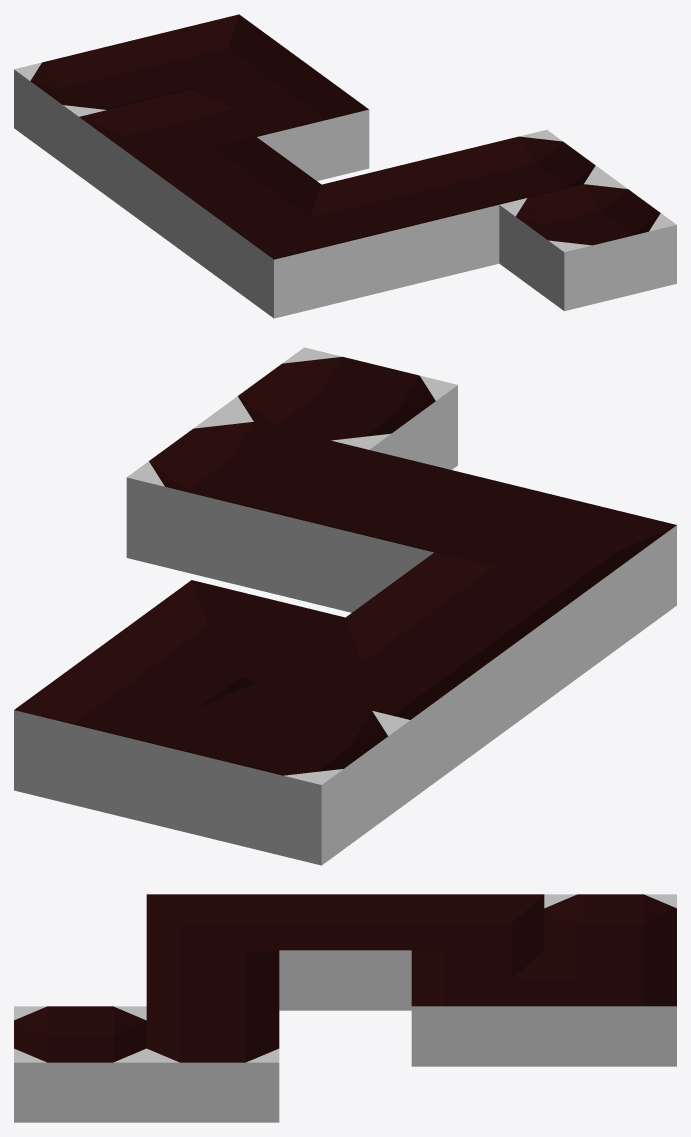
File: 24f_path.obj
3 renders of one model, top to bottom at view 1: azimuth 30°, elevation 25°; view 2: azimuth 150°, elevation 25°; view 3: azimuth 270°, elevation 25°, orthographic. The views are drawn at different scales.
Parts seen in each view (by area): view 1: foil.hole.3.0_Cube.199, foil.corner.1.1_corner.985, foil.through.2.1_through.200, foil.corner.2.3_corner.987, foil.corner.1.3_corner.986, foil.through.1.2_through.199, foil.ending.1.4_ending.395, foil.corner.2.4_corner.988, foil.ending.3.1_ending.396; view 2: foil.ending.1.4_ending.395, foil.ending.3.1_ending.396, foil.corner.2.4_corner.988, foil.through.2.1_through.200, foil.corner.1.1_corner.985, foil.through.1.2_through.199, foil.hole.3.0_Cube.199, foil.corner.2.3_corner.987, foil.corner.1.3_corner.986; view 3: foil.through.1.2_through.199, foil.hole.3.0_Cube.199, foil.corner.2.3_corner.987, foil.ending.3.1_ending.396, foil.corner.2.4_corner.988, foil.corner.1.1_corner.985, foil.corner.1.3_corner.986, foil.ending.1.4_ending.395, foil.through.2.1_through.200.
Part boxes in pixels (x1,y1,x2,y2): foil.hole.3.0_Cube.199: (499, 177, 676, 311); foil.corner.1.1_corner.985: (209, 185, 386, 318); foil.through.2.1_through.200: (322, 157, 499, 290); foil.corner.2.3_corner.987: (192, 62, 369, 180); foil.corner.1.3_corner.986: (79, 89, 256, 222); foil.through.1.2_through.199: (144, 137, 321, 270); foil.ending.1.4_ending.395: (14, 42, 189, 175); foil.corner.2.4_corner.988: (127, 14, 303, 97); foil.ending.3.1_ending.396: (434, 129, 611, 207); foil.ending.1.4_ending.395: (168, 682, 410, 865); foil.ending.3.1_ending.396: (126, 412, 368, 595); foil.corner.2.4_corner.988: (14, 645, 256, 827); foil.through.2.1_through.200: (280, 450, 522, 612); foil.corner.1.1_corner.985: (435, 487, 676, 669); foil.through.1.2_through.199: (346, 552, 588, 735); foil.hole.3.0_Cube.199: (215, 347, 457, 469); foil.corner.2.3_corner.987: (103, 580, 345, 693); foil.corner.1.3_corner.986: (259, 617, 499, 799); foil.through.1.2_through.199: (279, 894, 411, 1010); foil.hole.3.0_Cube.199: (14, 1006, 146, 1122); foil.corner.2.3_corner.987: (411, 950, 544, 1066); foil.ending.3.1_ending.396: (146, 1006, 279, 1122); foil.corner.2.4_corner.988: (544, 950, 676, 1066); foil.corner.1.1_corner.985: (146, 894, 279, 965); foil.corner.1.3_corner.986: (411, 894, 544, 965); foil.ending.1.4_ending.395: (544, 894, 676, 965); foil.through.2.1_through.200: (146, 950, 279, 1021).
Bounding box in the file's own units: 6 × 1 × 10.
